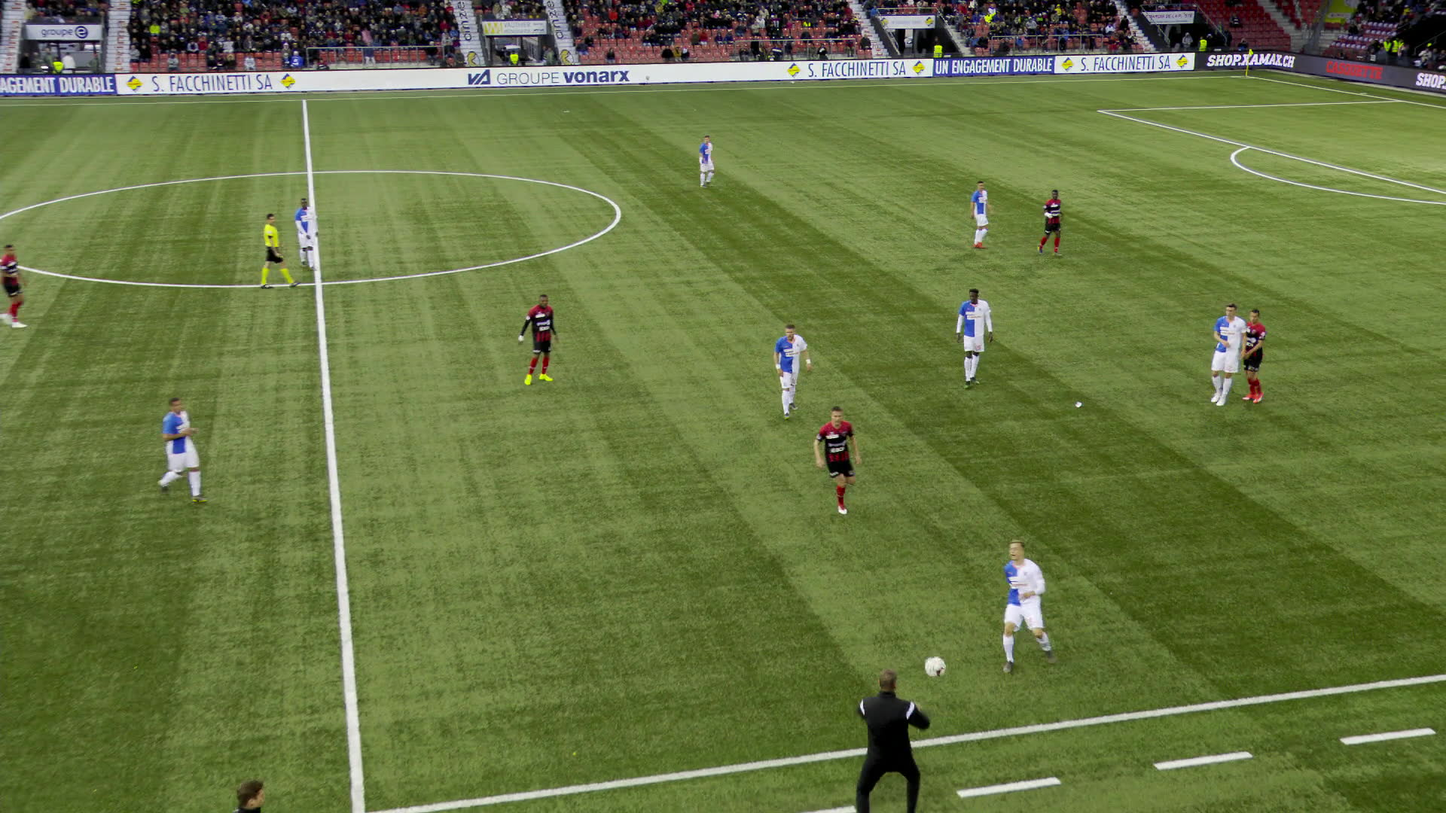ball: (924, 655, 945, 677)
player: (996, 537, 1044, 675), (810, 403, 861, 522), (153, 394, 206, 504), (1204, 303, 1243, 412), (953, 288, 993, 391), (514, 293, 557, 388), (772, 322, 811, 421), (1240, 308, 1266, 406), (0, 242, 28, 330), (289, 194, 319, 273), (1033, 189, 1063, 263), (0, 248, 24, 336), (969, 180, 996, 254), (694, 135, 716, 191)
referee: (253, 214, 300, 294)
